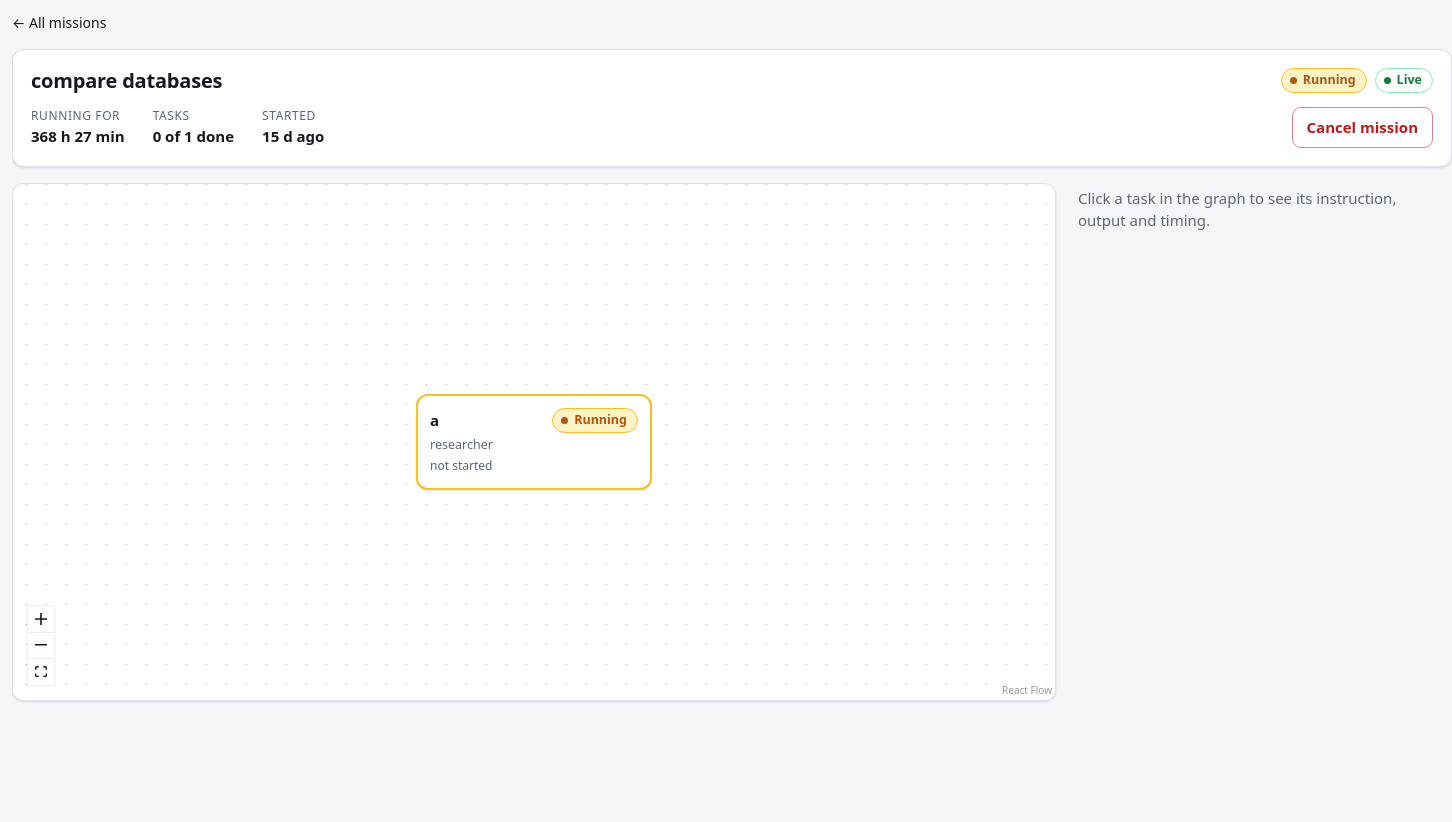
MissionView: cancelling › shows the API's message for other errors
Click the button "Cancel mission": (1362, 127) top-left (1292, 107), bottom-right (1433, 148)
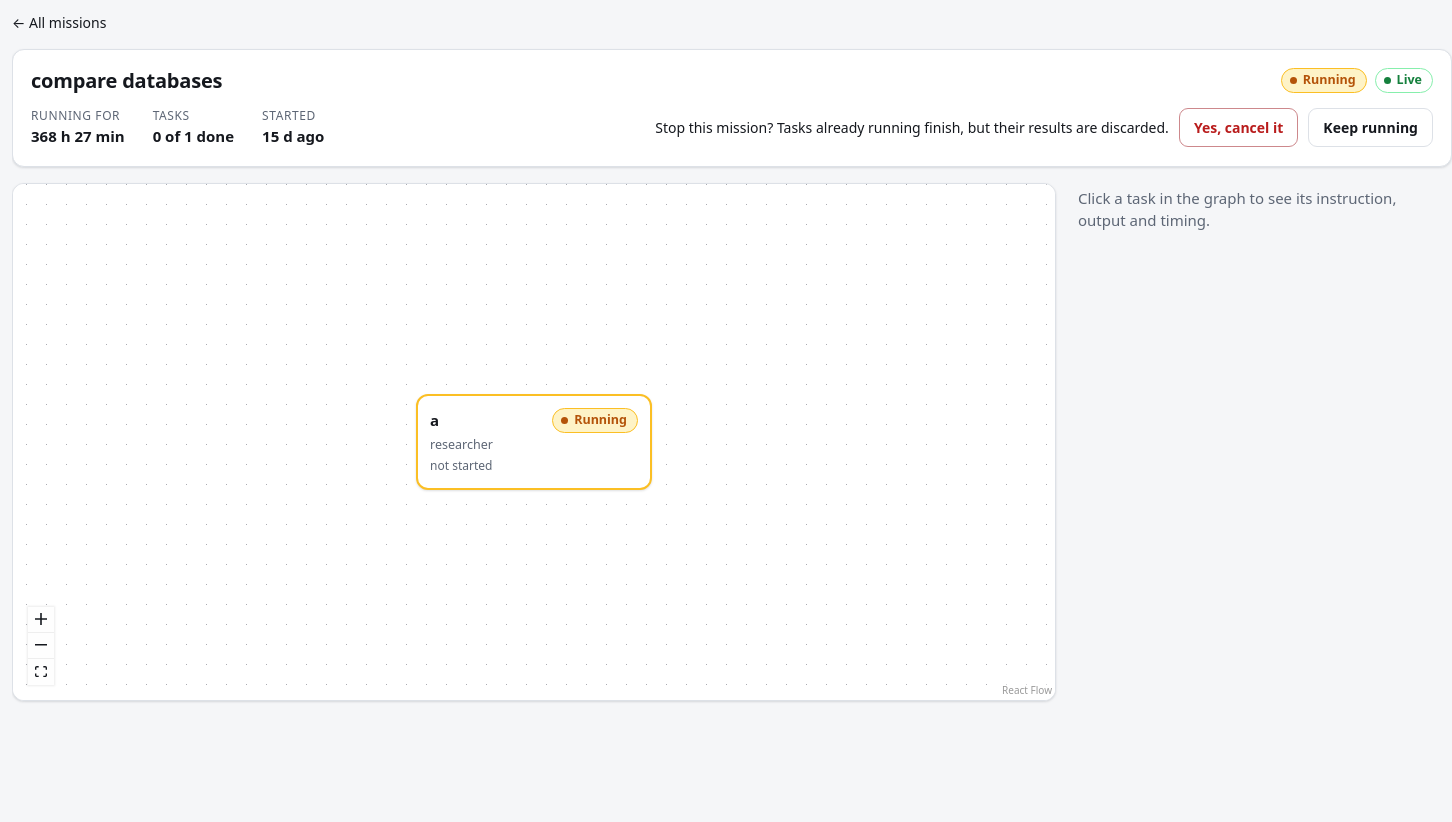
Click the button "Yes, cancel it": (1239, 127) top-left (1179, 108), bottom-right (1298, 147)
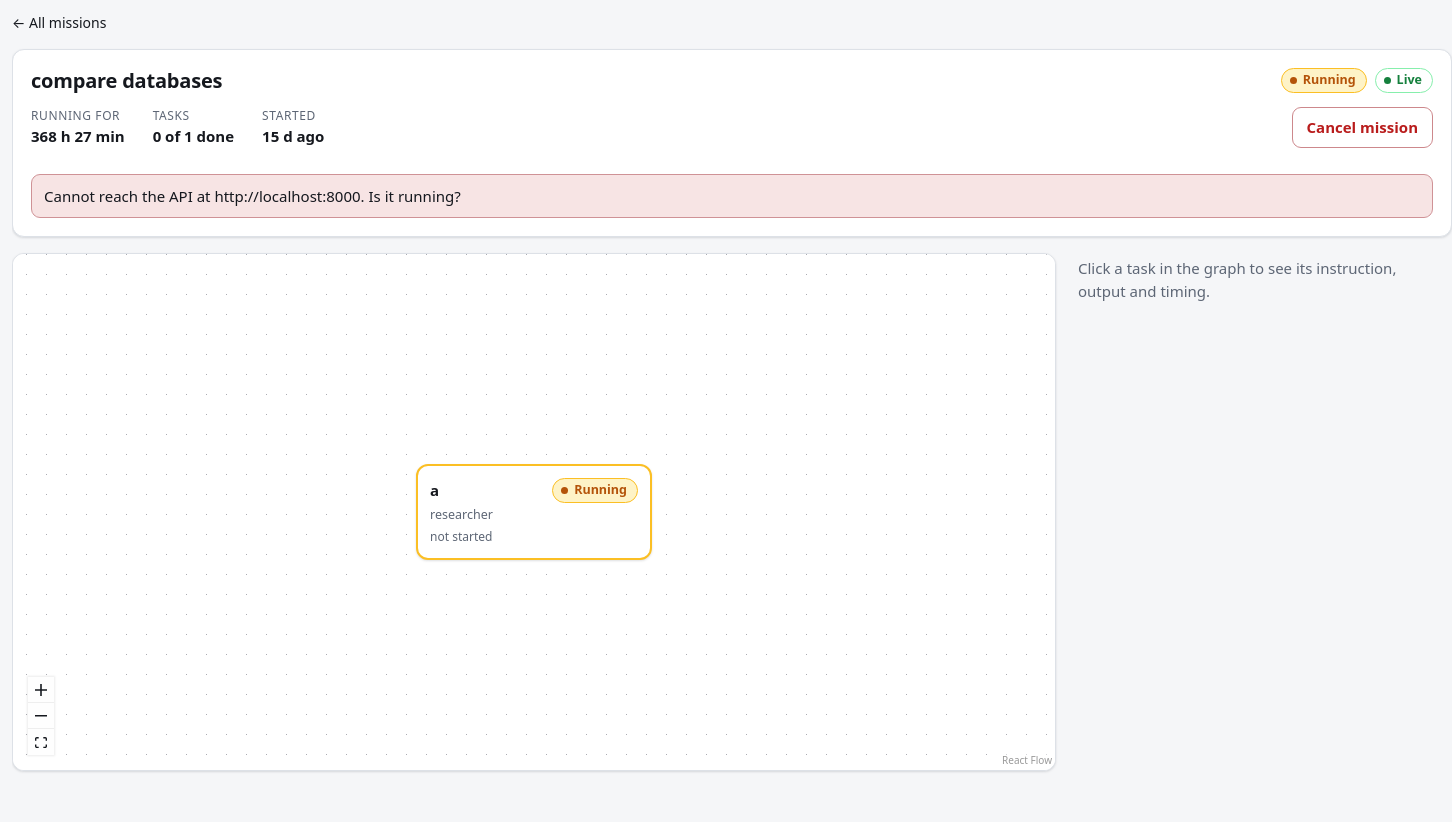
Now the message "Cannot reach the API at http://localhost:8000. Is it running?" is shown, box top-left (31, 174), bottom-right (1433, 218)
